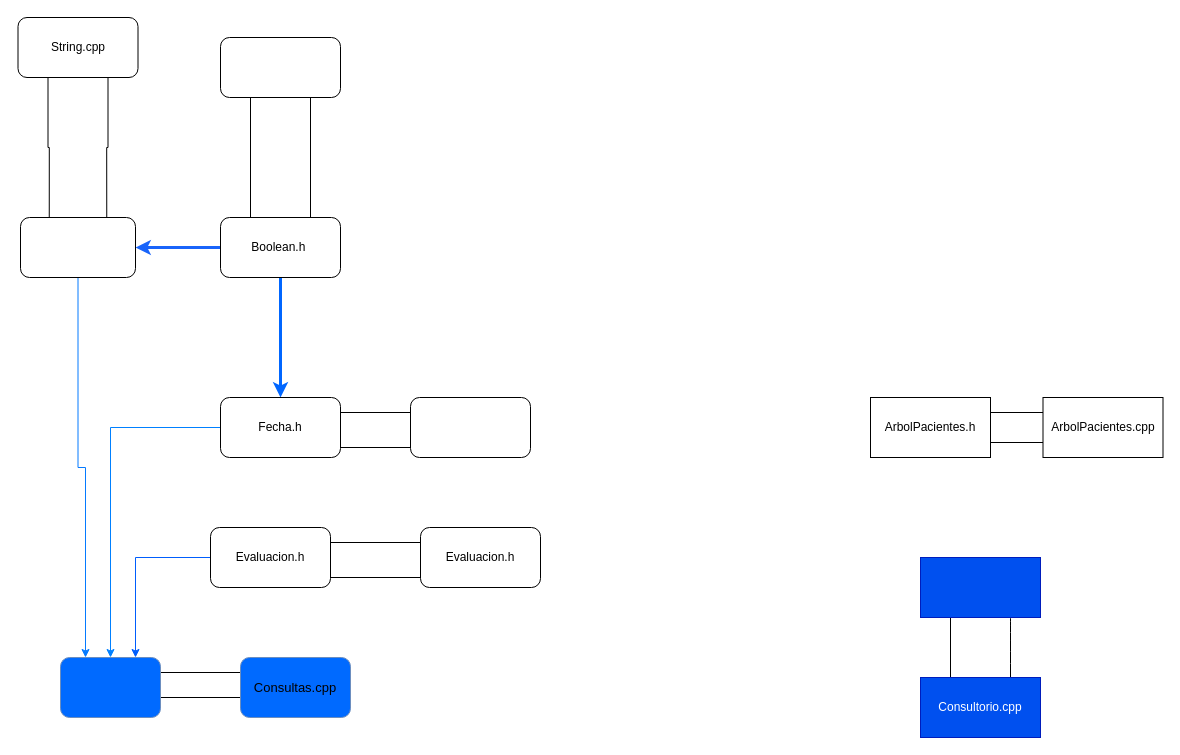
Image size: 1180x755. Some labels were removed from this diagram. Each missing label, with the centre of its shape:
"Boolean.cpp" goes at point 280,67.
"Consultas.h" goes at point 110,687.
"Consultorio.h" goes at point 980,587.
"Fecha.cpp" goes at point 470,427.
"String.h" goes at point 78,247.
